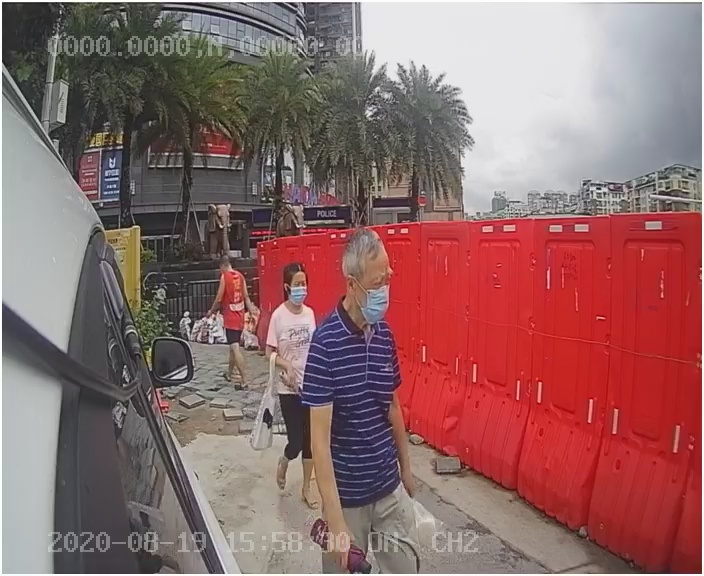person: (296, 227, 440, 542)
